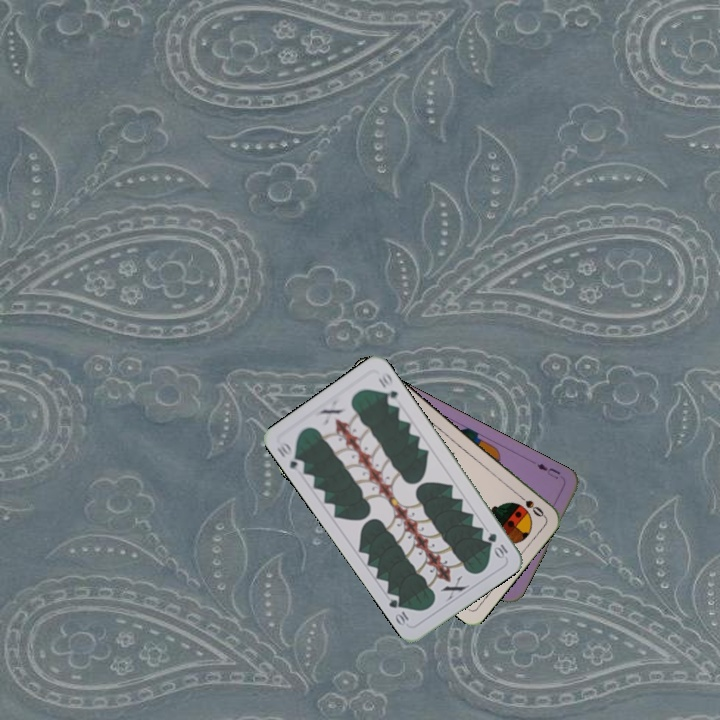EU: (533, 459, 563, 482)
G10: (273, 438, 307, 475), (484, 529, 511, 561)
SO: (513, 489, 547, 520)
